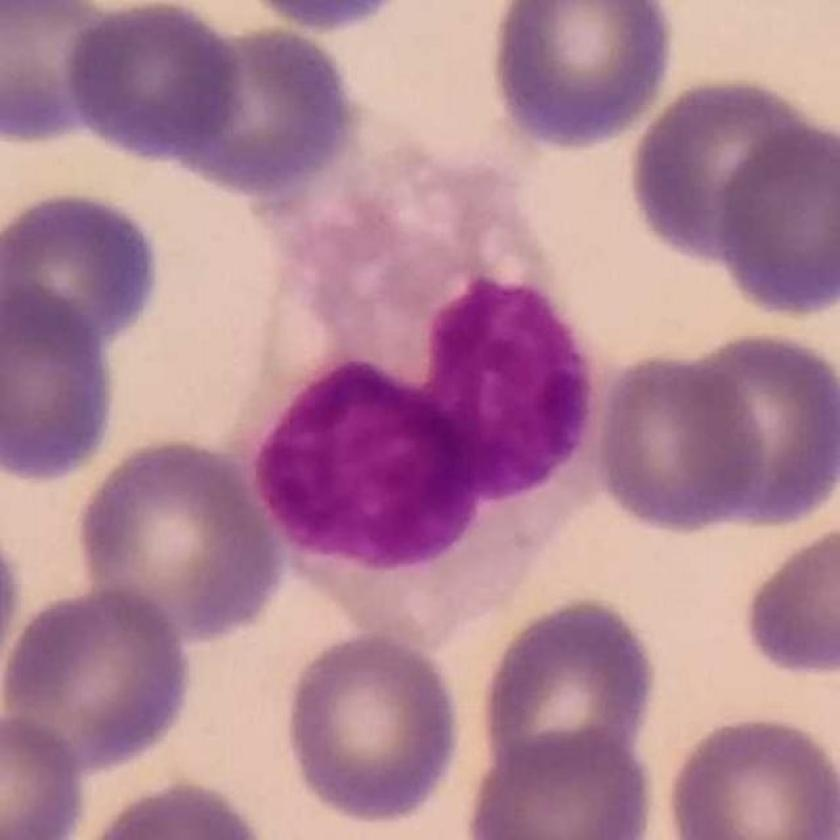monocyte: (232, 93, 605, 668)
